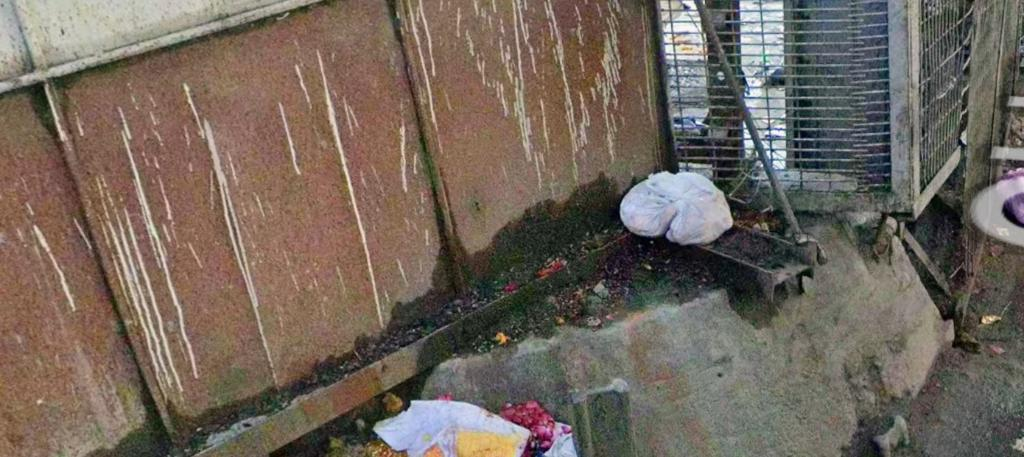garbage: (612, 167, 745, 257)
